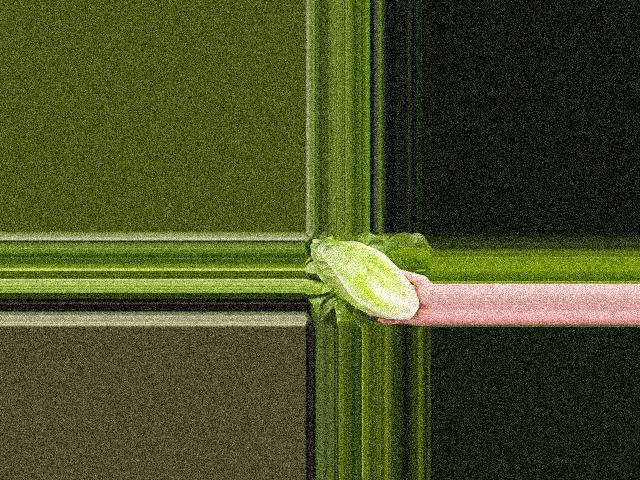lettuce: (310, 237, 420, 322)
